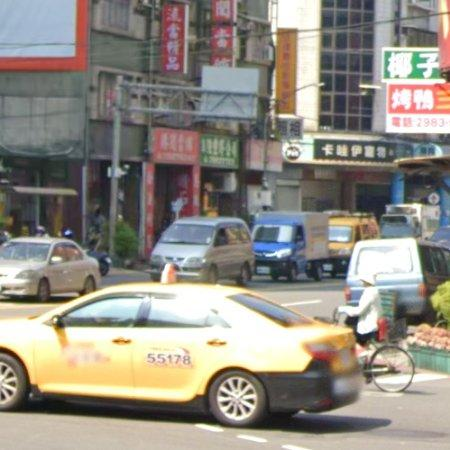taxis: (0, 264, 363, 428)
